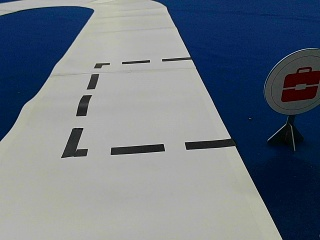company: (264, 49, 318, 113)
